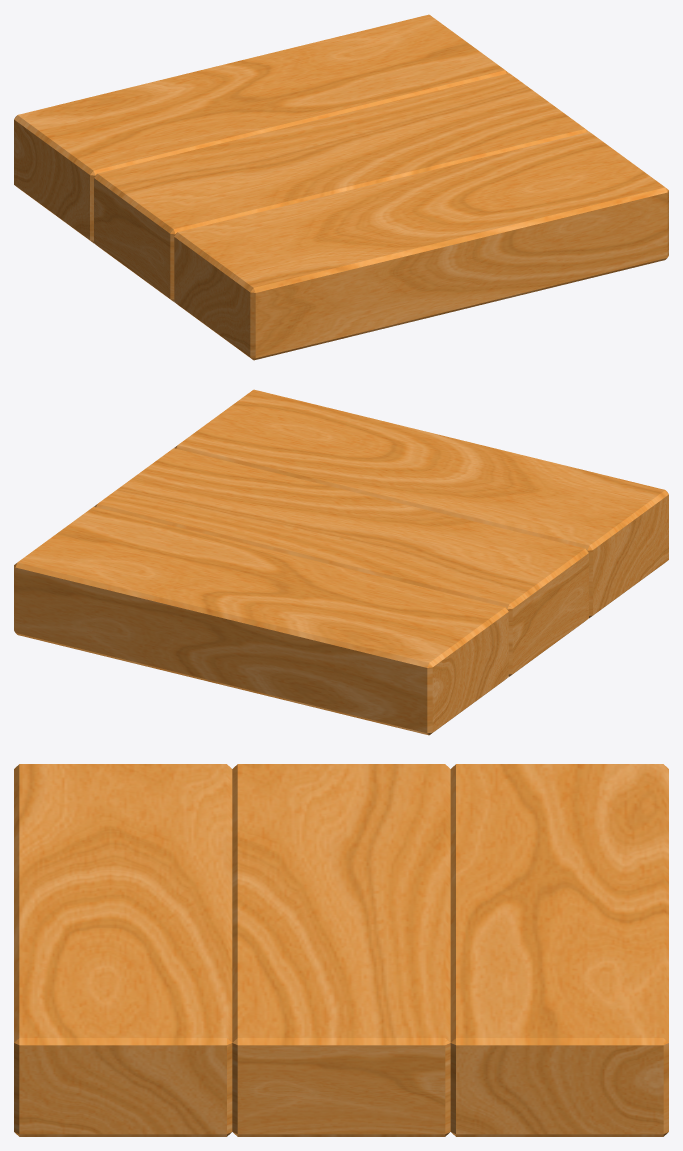
The model's file is WoodenBlockSetOf3.fbx.
3 renders of one model, top to bottom at view 1: azimuth 30°, elevation 25°; view 2: azimuth 150°, elevation 25°; view 3: azimuth 270°, elevation 25°, orthographic. The views are drawn at different scales.
Parts seen in each view (by area): view 1: WoodenBlockSetOf3; view 2: WoodenBlockSetOf3; view 3: WoodenBlockSetOf3.
Boxes of the visible parts, bbox=[...] form: WoodenBlockSetOf3: bbox=[14, 14, 668, 360]; WoodenBlockSetOf3: bbox=[14, 389, 668, 735]; WoodenBlockSetOf3: bbox=[14, 764, 668, 1136].
Size of the model in its own units: 6.04 by 1 by 6.
